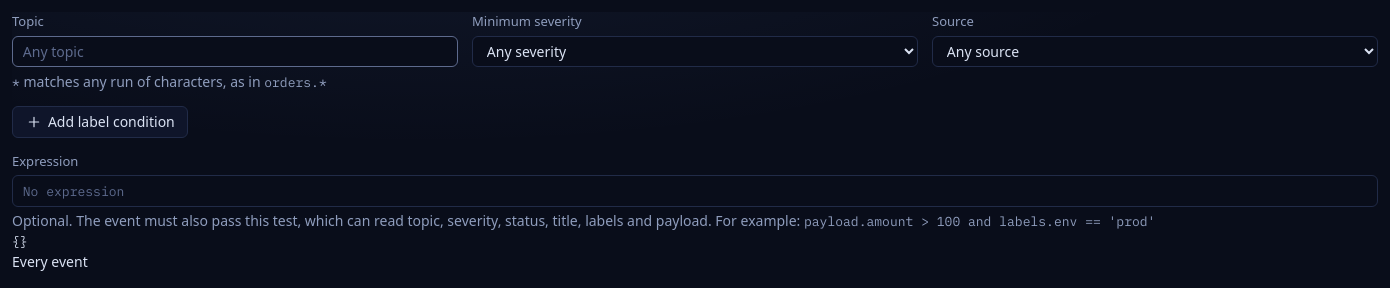
MatchEditor › builds topic, severity and source conditions
This screenshot has width=1390, height=288.
Type "orders.*" into the field labelled "Topic" at (235, 51), box top-left (12, 36), bottom-right (458, 67)
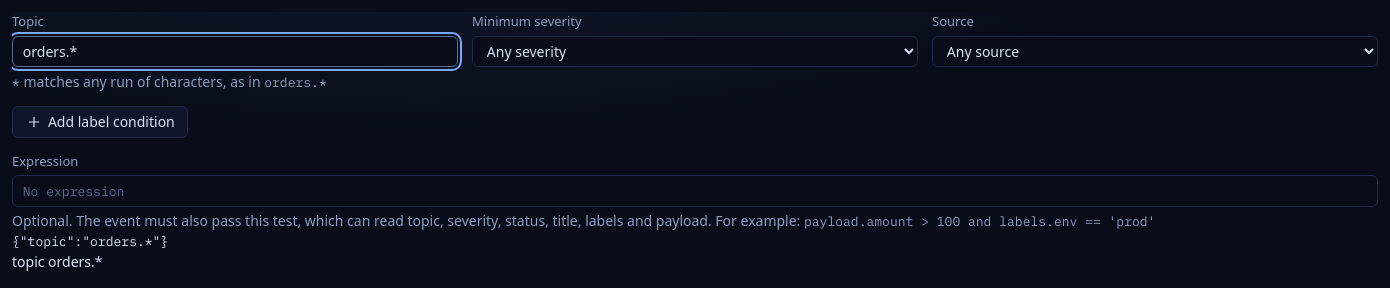
Select "error" in the dropdown labelled "Minimum severity" at (695, 51), box top-left (472, 36), bottom-right (918, 67)
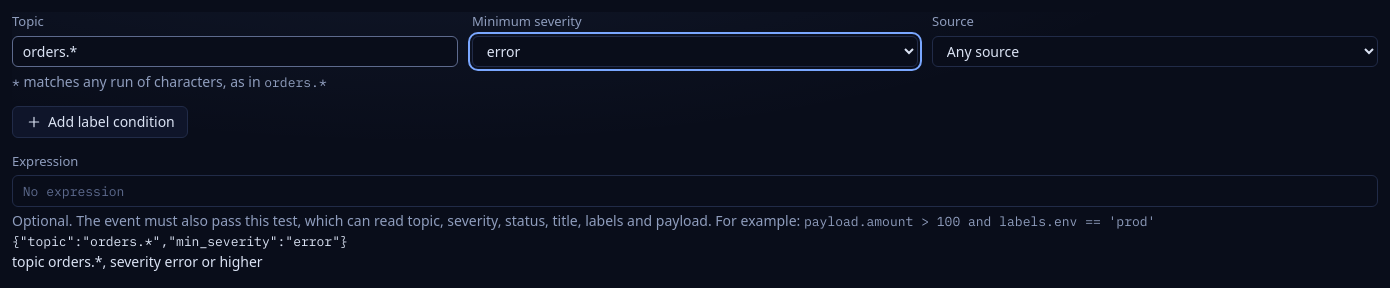
Select "orders-api" in the dropdown labelled "Source" at (1155, 51), box top-left (932, 36), bottom-right (1378, 67)
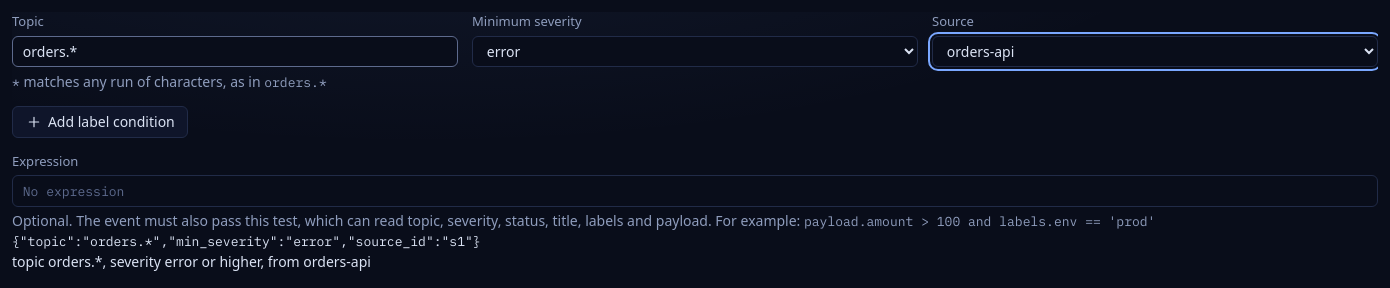
Expected: the text with test id "summary" reads "topic orders.*, severity error or higher, from orders-api", top-left (12, 252), bottom-right (371, 272)
